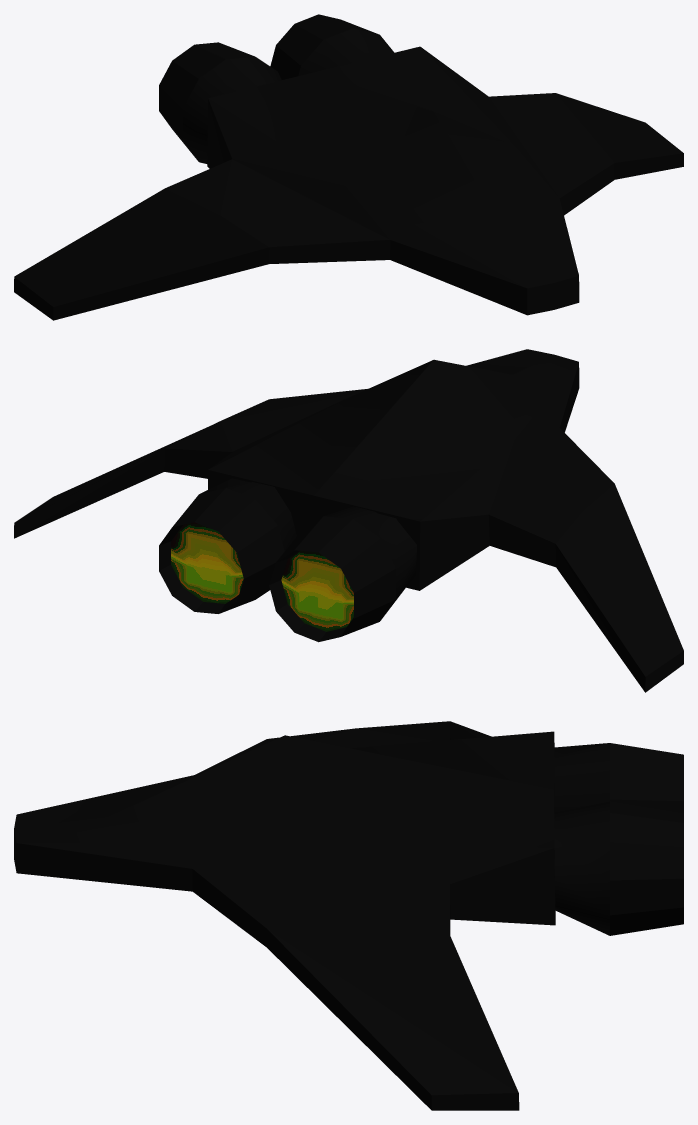
File: Spaceship.fbx
3 views of the same model, one above another, from view 1: azimuth 30°, elevation 25°; view 2: azimuth 150°, elevation 25°; view 3: azimuth 270°, elevation 25° (orthographic). The views are drawn at different scales.
Parts seen in each view (by area): view 1: Mesh; view 2: Mesh; view 3: Mesh.
Boxes of the visible parts, box(x1,y1,x2,y2) form: Mesh: box(14, 14, 683, 320); Mesh: box(14, 349, 683, 692); Mesh: box(14, 721, 683, 1110).
Size of the model in its own units: 38.83 by 10.57 by 31.73.
1 material, 1 textured.
